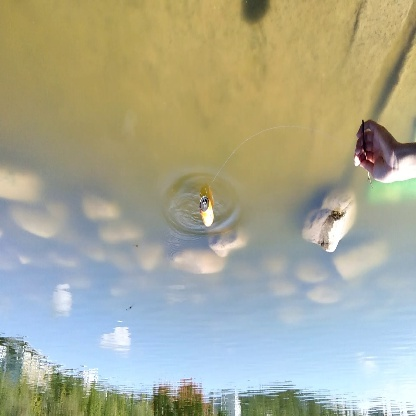bottle: (191, 193, 219, 230)
